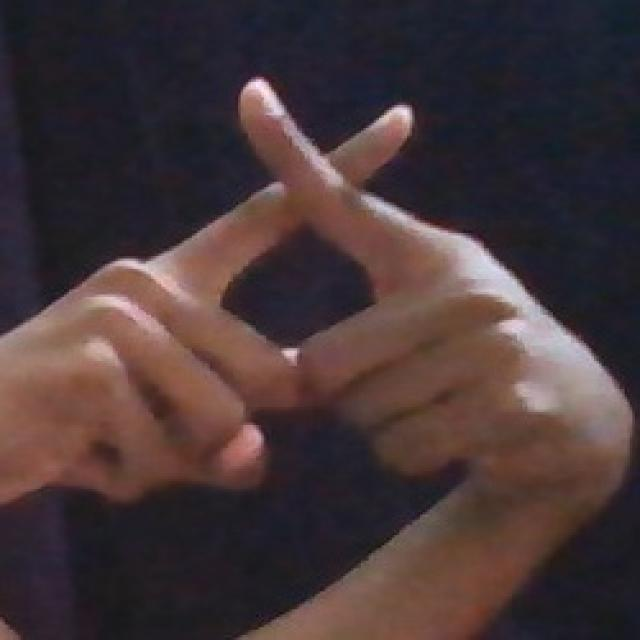Alphabet-X: (17, 77, 638, 540)
